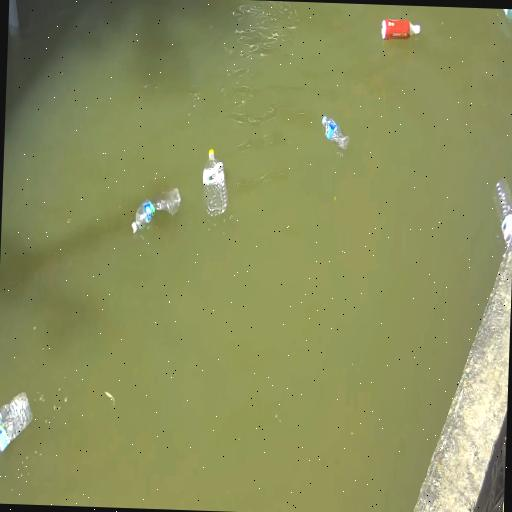plastic: (132, 189, 180, 233), (0, 393, 33, 452), (202, 149, 228, 222), (495, 180, 511, 247), (322, 116, 349, 150), (382, 19, 420, 40), (504, 9, 511, 21)
